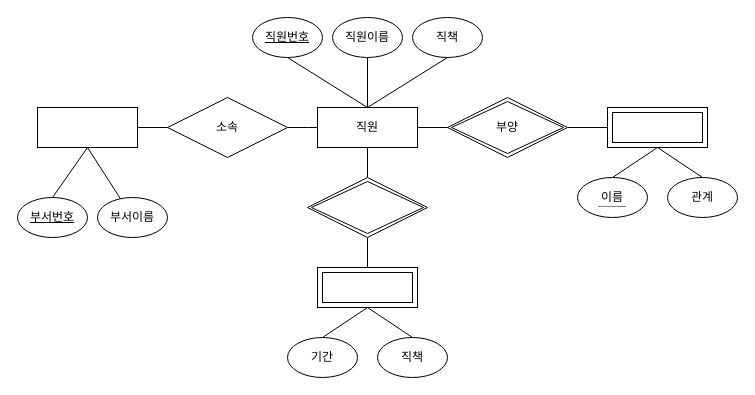
This 755x395 diagram has some shape labels left out. Here are the shapes that lost their labels. From the top down, the centre of each, then its label:
the point at 87,127: 부서
the point at 657,127: 부양가족
the point at 367,207: 근무
the point at 367,287: 근무기록
